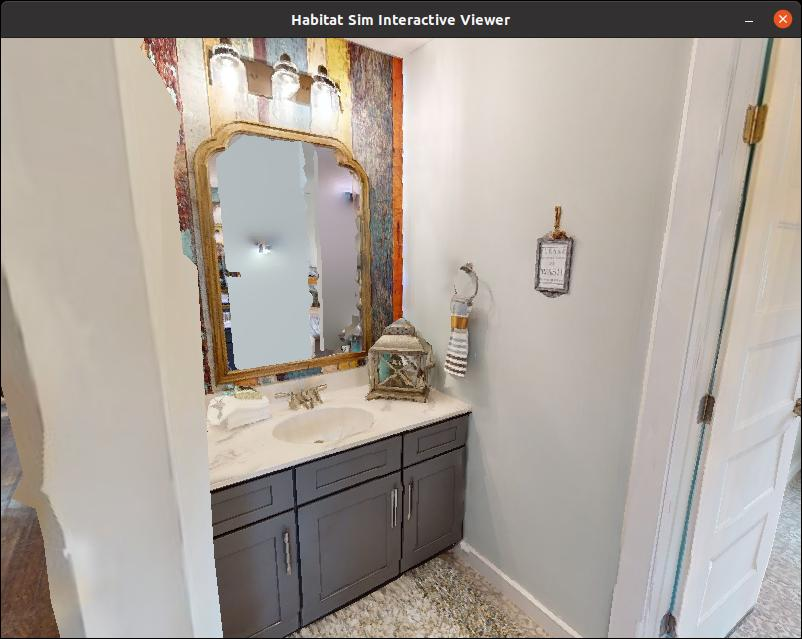sink: (206, 345, 467, 631)
